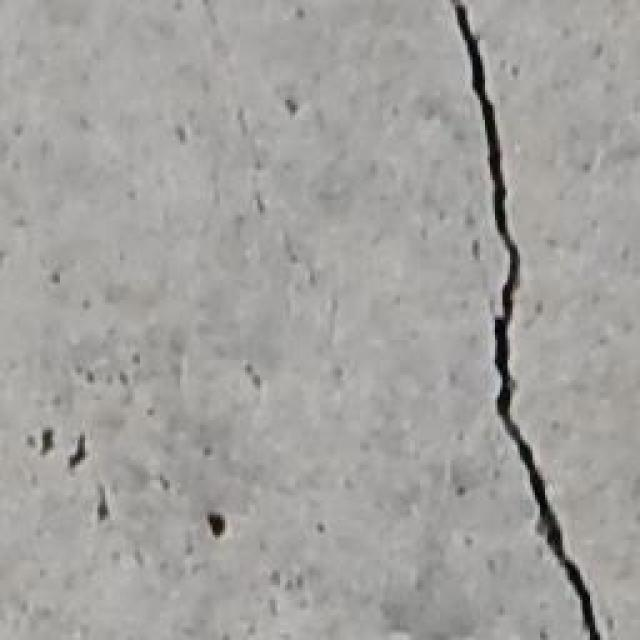concrete-crack: (450, 0, 605, 640)
